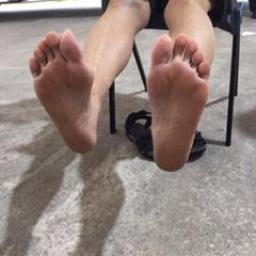Plantar View -Both Feet-: (21, 17, 219, 185)
